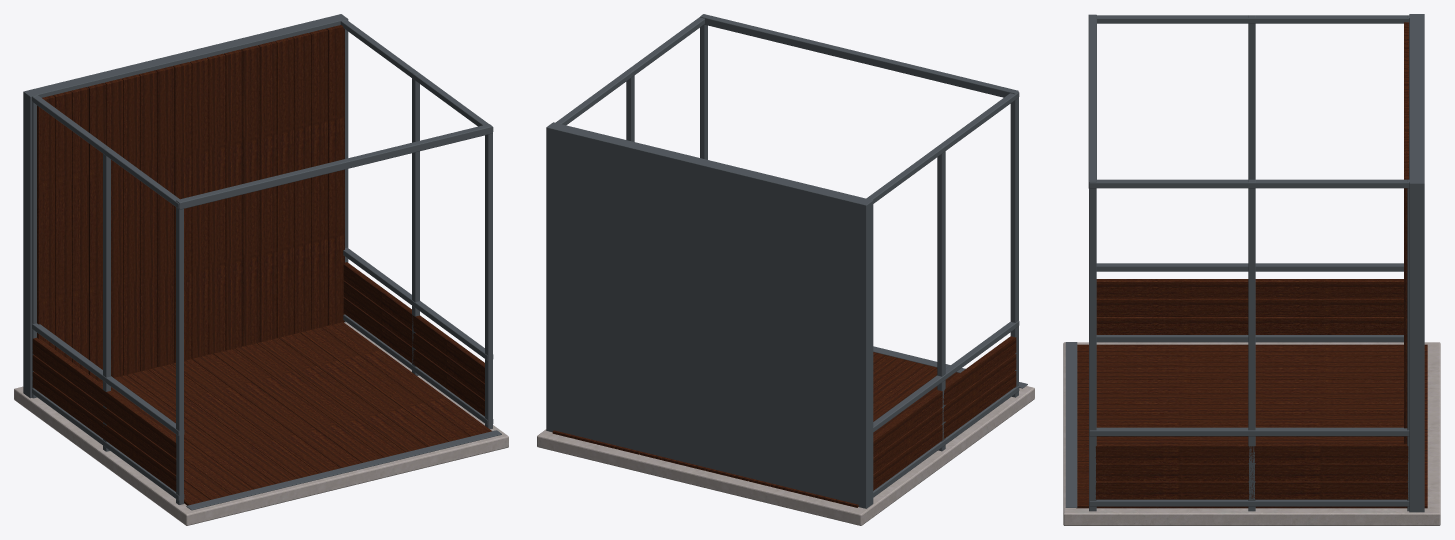
File: workshop-shell.glb
3 renders of one model, left to right at view 1: azimuth 30°, elevation 25°; view 2: azimuth 150°, elevation 25°; view 3: azimuth 270°, elevation 25°, orthographic. The views are drawn at different scales.
Parts seen in each view (by area): view 1: shell_visual; view 2: shell_visual; view 3: shell_visual.
Boxes of the visible parts, x1,y1,x2,y2 form: shell_visual: (14, 14, 508, 525); shell_visual: (537, 14, 1034, 525); shell_visual: (1063, 14, 1440, 525).
Bounding box in the file's own units: 3.45 × 3.21 × 3.2.
3 materials, 2 textured.
